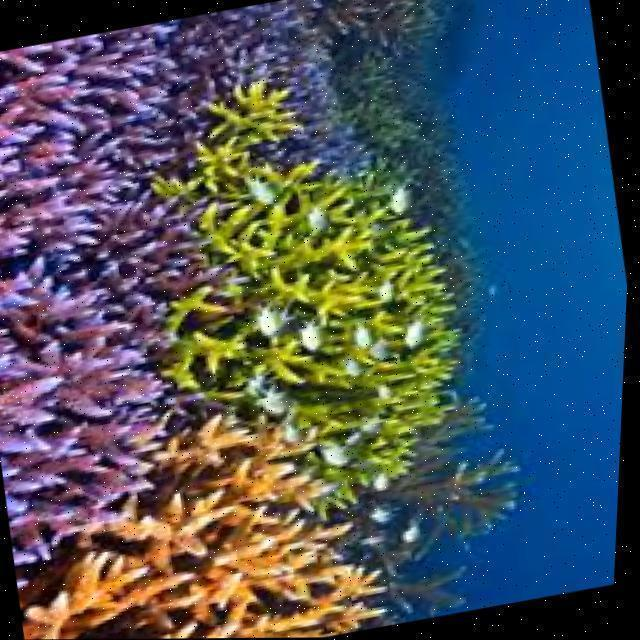Healthy Coral: (0, 47, 294, 531), (149, 118, 495, 494), (0, 389, 410, 640)
